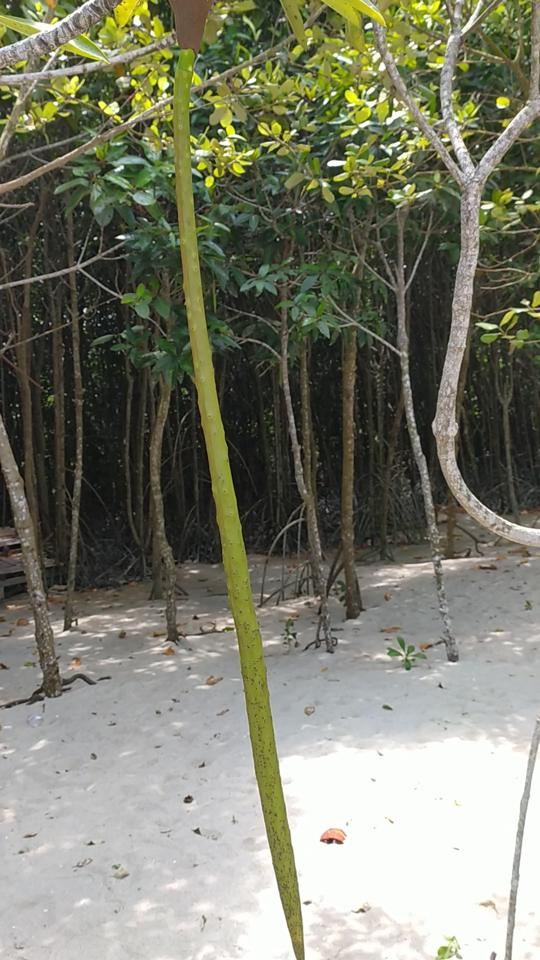mentah: (142, 1, 320, 958)
